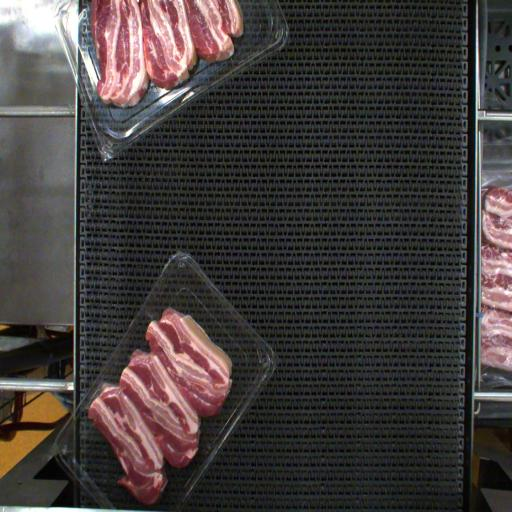packaging-error: (141, 309, 159, 326)
